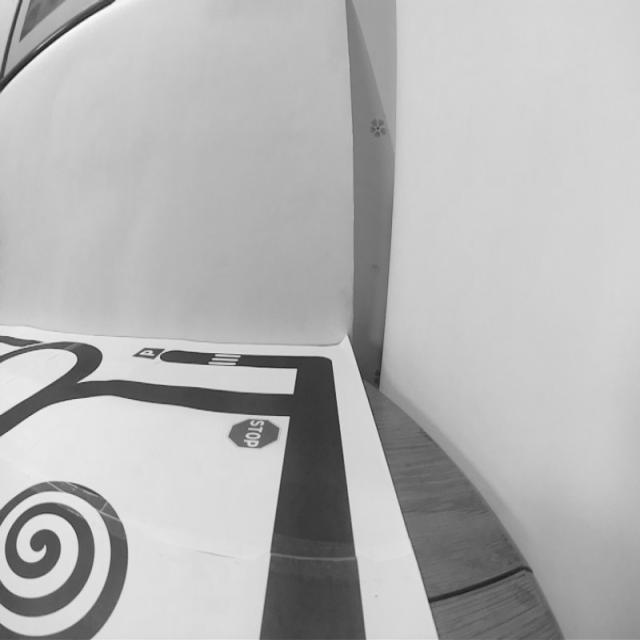lineStraight: (240, 468, 385, 640)
